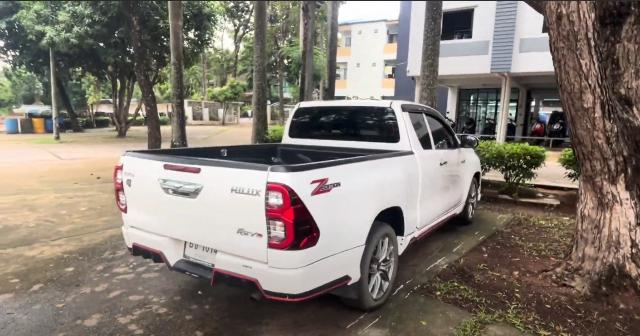pickup-truck: (115, 101, 484, 314)
